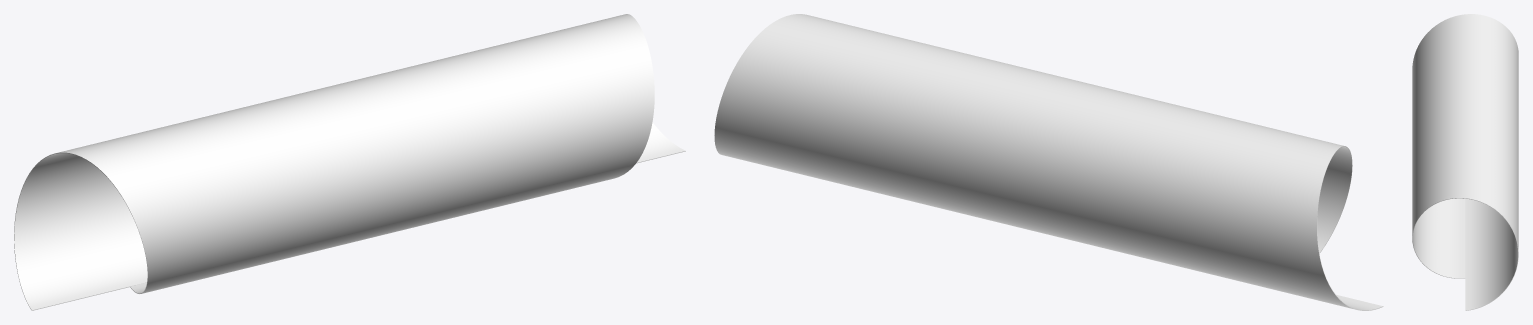
The model's file is Level 70 unroll silver foil over hot food.fbx.
3 views of the same model, side by side, from view 1: azimuth 30°, elevation 25°; view 2: azimuth 150°, elevation 25°; view 3: azimuth 270°, elevation 25° (orthographic). The views are drawn at different scales.
Visible parts, largest first — view 1: Blend; view 2: Blend; view 3: Blend.
Boxes of the visible parts, left/top/right/bottom form: Blend: left=14, top=14, right=685, bottom=310; Blend: left=714, top=14, right=1383, bottom=310; Blend: left=1412, top=14, right=1518, bottom=310.
Size of what is drawn, in the model's own units: 1151 by 239 by 239.
